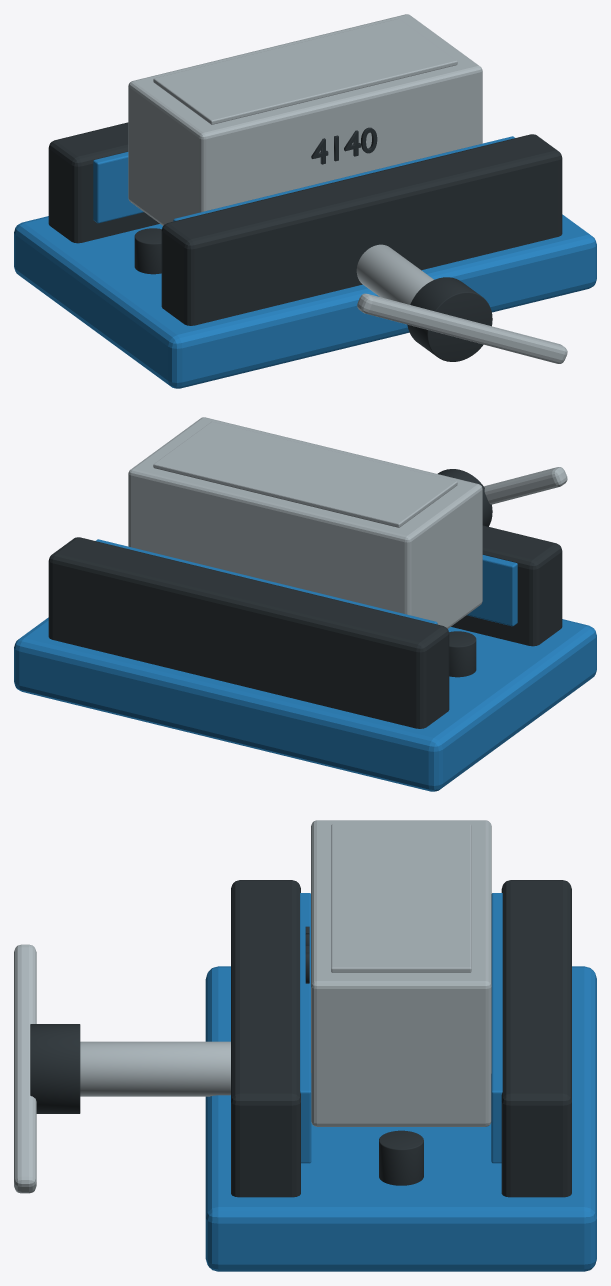
The model's file is rectangular_machining_blank.glb.
3 views of the same model, one above another, from view 1: azimuth 30°, elevation 25°; view 2: azimuth 150°, elevation 25°; view 3: azimuth 270°, elevation 25° (orthographic). The views are drawn at different scales.
Parts seen in each view (by area): view 1: VISE_MOVING_JAW, VISE_BASE, RECTANGULAR_4140_STOCK, MACHINED_TOP_FACE, VISE_FIXED_JAW, VISE_HANDLE, VISE_HANDLE_HUB, VISE_LEAD_SCREW, FIXED_JAW_PLATE, VISE_MOUNT_BOLT_-0.42, MOVING_JAW_PLATE, STOCK_MARK; view 2: VISE_FIXED_JAW, VISE_BASE, RECTANGULAR_4140_STOCK, MACHINED_TOP_FACE, VISE_MOVING_JAW, MOVING_JAW_PLATE, VISE_HANDLE, VISE_MOUNT_BOLT_-0.42, FIXED_JAW_PLATE, VISE_HANDLE_HUB; view 3: VISE_BASE, RECTANGULAR_4140_STOCK, VISE_FIXED_JAW, VISE_MOVING_JAW, MACHINED_TOP_FACE, VISE_LEAD_SCREW, VISE_HANDLE, VISE_HANDLE_HUB, FIXED_JAW_PLATE, MOVING_JAW_PLATE, VISE_MOUNT_BOLT_0.42.
Boxes of the visible parts, left/top/right/bottom form: VISE_MOVING_JAW: left=161, top=134, right=562, bottom=325; VISE_BASE: left=14, top=214, right=596, bottom=388; RECTANGULAR_4140_STOCK: left=128, top=14, right=482, bottom=225; MACHINED_TOP_FACE: left=153, top=18, right=457, bottom=124; VISE_FIXED_JAW: left=48, top=122, right=159, bottom=243; VISE_HANDLE: left=357, top=293, right=567, bottom=363; VISE_HANDLE_HUB: left=407, top=277, right=492, bottom=361; VISE_LEAD_SCREW: left=356, top=244, right=433, bottom=304; FIXED_JAW_PLATE: left=93, top=152, right=143, bottom=223; VISE_MOUNT_BOLT_-0.42: left=134, top=228, right=161, bottom=274; MOVING_JAW_PLATE: left=173, top=136, right=514, bottom=221; STOCK_MARK: left=311, top=127, right=377, bottom=164; VISE_FIXED_JAW: left=48, top=537, right=449, bottom=728; VISE_BASE: left=14, top=617, right=596, bottom=791; RECTANGULAR_4140_STOCK: left=128, top=417, right=482, bottom=628; MACHINED_TOP_FACE: left=153, top=421, right=457, bottom=527; VISE_MOVING_JAW: left=451, top=525, right=562, bottom=646; MOVING_JAW_PLATE: left=467, top=555, right=517, bottom=626; VISE_HANDLE: left=484, top=467, right=567, bottom=504; VISE_MOUNT_BOLT_-0.42: left=449, top=631, right=476, bottom=677; FIXED_JAW_PLATE: left=96, top=539, right=437, bottom=624; VISE_HANDLE_HUB: left=437, top=469, right=492, bottom=526; VISE_BASE: left=205, top=966, right=596, bottom=1271; RECTANGULAR_4140_STOCK: left=311, top=820, right=491, bottom=1126; VISE_FIXED_JAW: left=501, top=880, right=571, bottom=1197; VISE_MOVING_JAW: left=231, top=880, right=300, bottom=1197; MACHINED_TOP_FACE: left=331, top=824, right=471, bottom=972; VISE_LEAD_SCREW: left=80, top=1041, right=230, bottom=1096; VISE_HANDLE: left=14, top=944, right=36, bottom=1193; VISE_HANDLE_HUB: left=30, top=1024, right=80, bottom=1113; FIXED_JAW_PLATE: left=491, top=893, right=502, bottom=1163; MOVING_JAW_PLATE: left=300, top=893, right=311, bottom=1163; VISE_MOUNT_BOLT_0.42: left=379, top=1130, right=423, bottom=1185.
Size of the model in its own units: 1.18 by 0.561 by 1.16.
